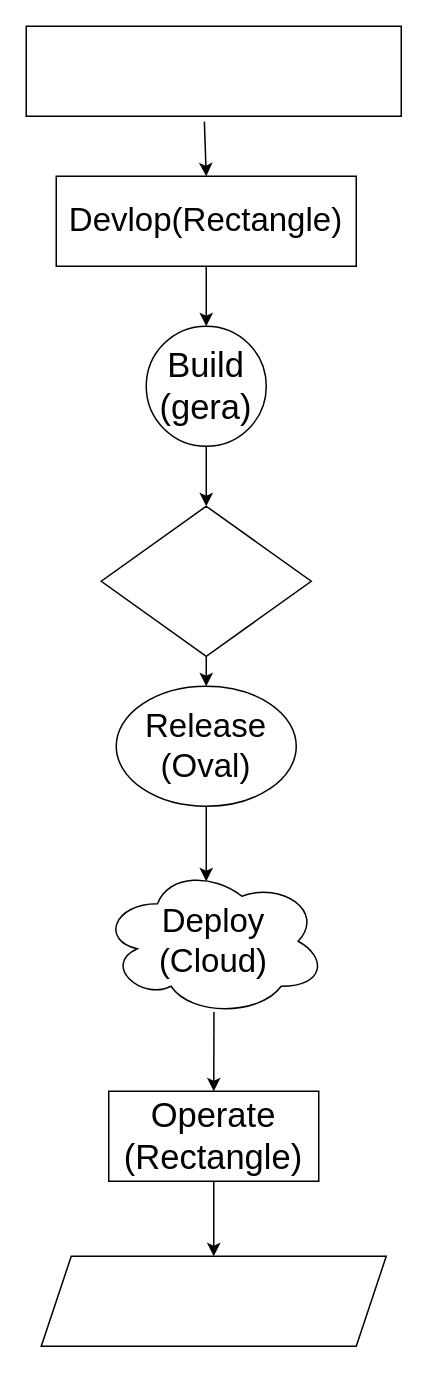
Image size: 428x1373. Some labels were removed from this diagram. Each missing label, with the box of its shape:
plane(Rectangle): (25, 25, 401, 116)
Text (Dimond): (100, 505, 311, 656)
